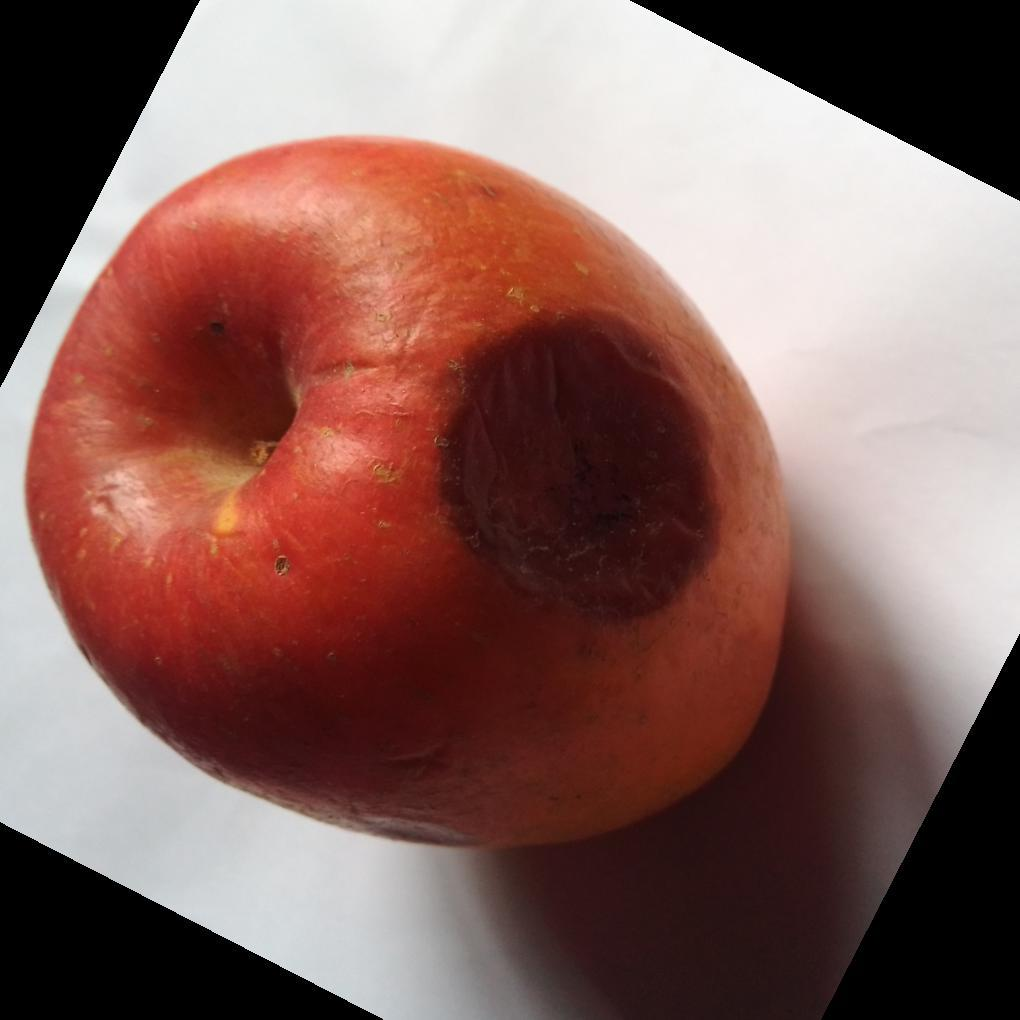FreshOrange: (22, 134, 795, 856)
